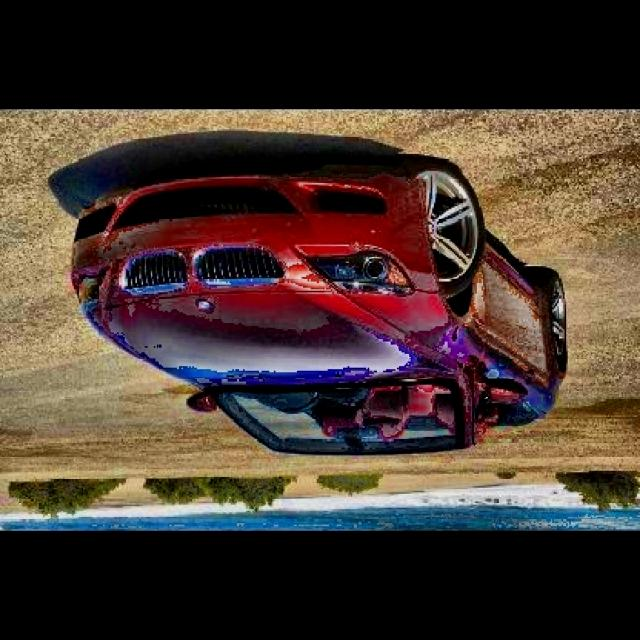maroon: (60, 174, 571, 454)
